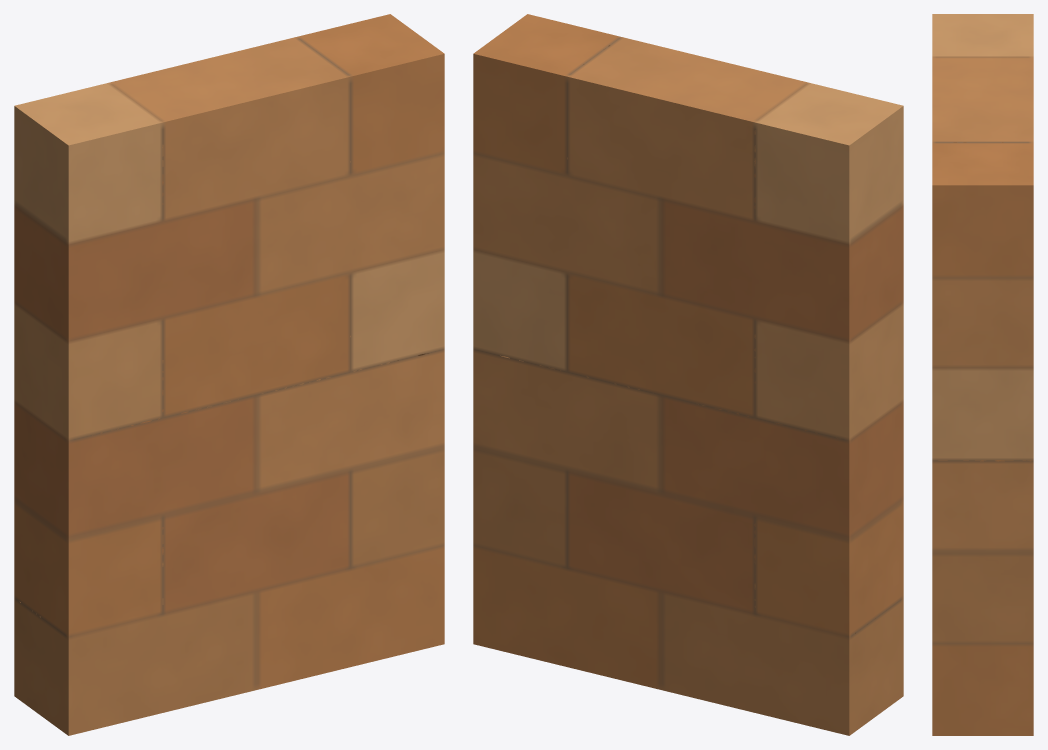
3 renders of one model, left to right at view 1: azimuth 30°, elevation 25°; view 2: azimuth 150°, elevation 25°; view 3: azimuth 270°, elevation 25°, orthographic. The views are drawn at different scales.
Parts seen in each view (by area): view 1: ss03-narrow-sandstone; view 2: ss03-narrow-sandstone; view 3: ss03-narrow-sandstone.
Boxes of the visible parts, x1,y1,x2,y2 form: ss03-narrow-sandstone: (14,14,444,735); ss03-narrow-sandstone: (473,14,903,735); ss03-narrow-sandstone: (932,14,1033,735).
Size of the model in its own units: 200 by 300 by 50.
